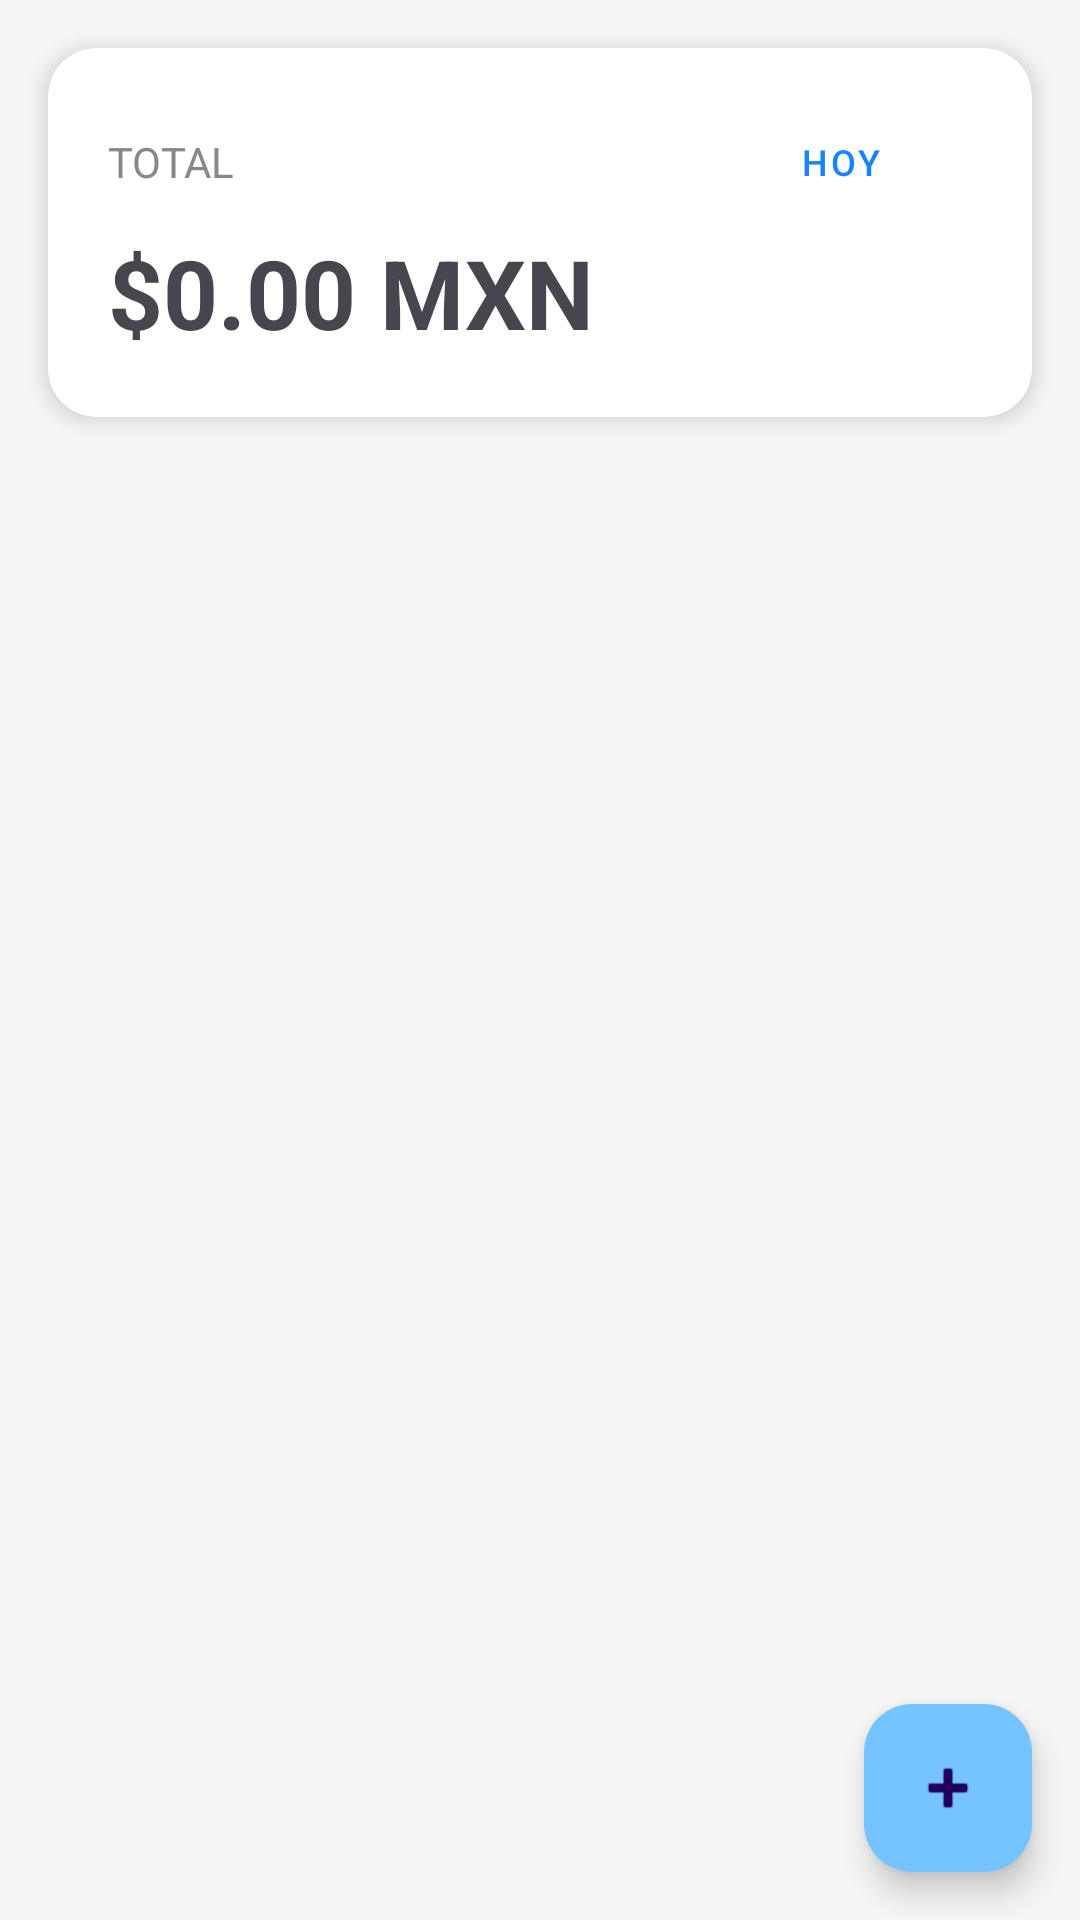

Locate icon controls on the screen. Image size 1080×1920, boxes as Rect(x1, y1, x2, y2).
Agregar gasto: Rect(864, 1704, 1032, 1872)
